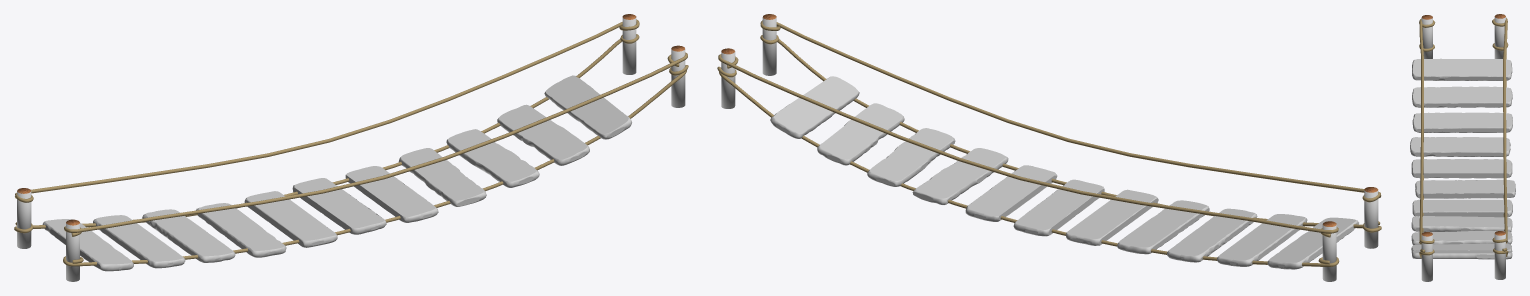
The model's file is pod.fbx.
The picture shows the model from 3 angles, left to right: view 1: azimuth 30°, elevation 25°; view 2: azimuth 150°, elevation 25°; view 3: azimuth 270°, elevation 25°; orthographic projection. The views are drawn at different scales.
Parts seen in each view (by area): view 1: BezierCurve.001; view 2: BezierCurve.001; view 3: BezierCurve.001.
Part boxes in pixels (bbox=[...]): BezierCurve.001: bbox=[14, 14, 688, 281]; BezierCurve.001: bbox=[717, 14, 1381, 281]; BezierCurve.001: bbox=[1410, 14, 1515, 281].
Size of the model in its own units: 1636 by 253 by 297.
